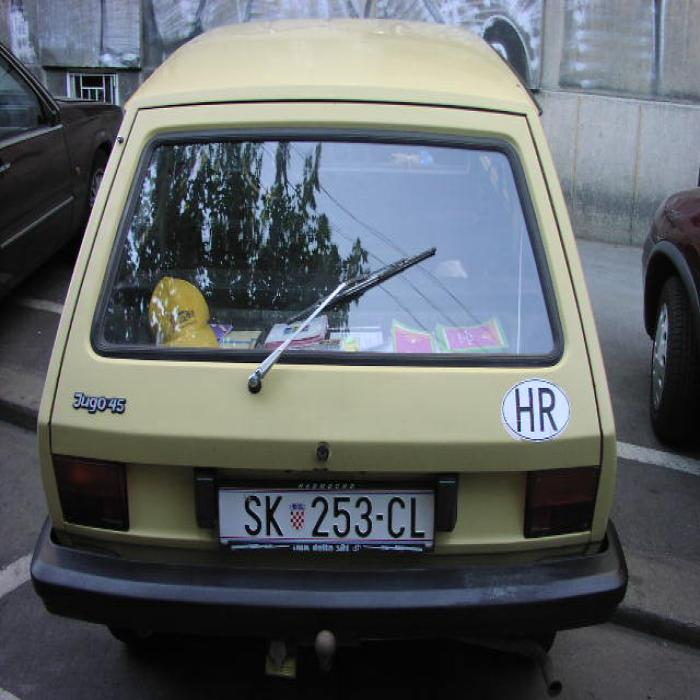number_plate: (218, 486, 431, 541)
